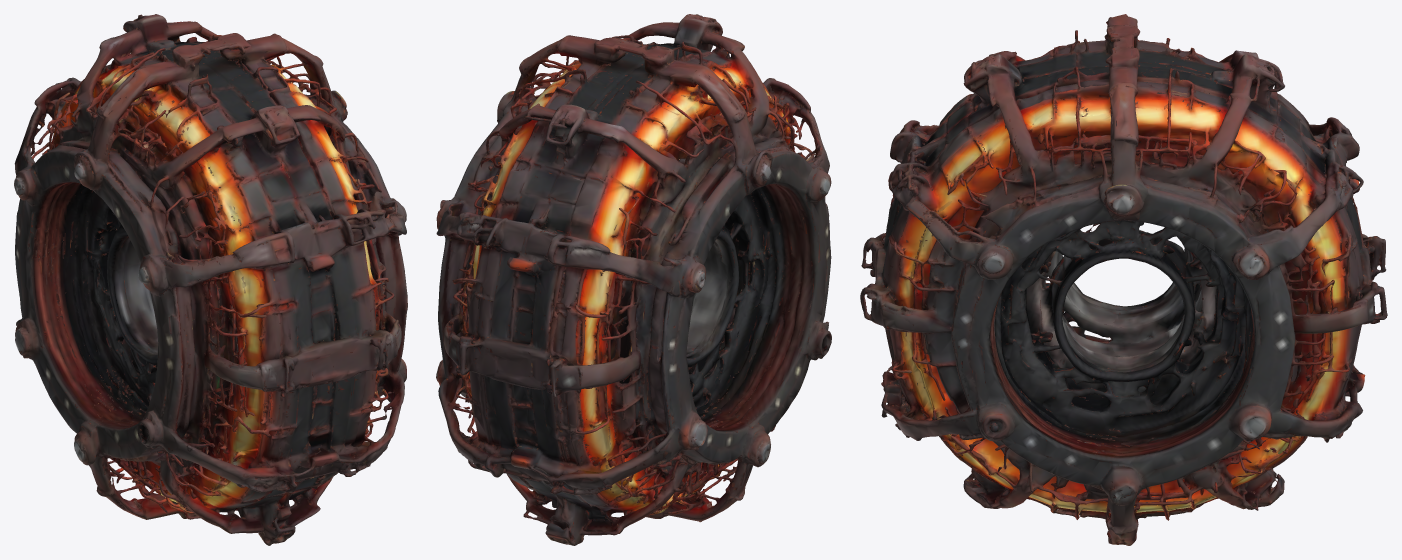
File: arc_reactor.glb
The picture shows the model from 3 angles, left to right: view 1: azimuth 30°, elevation 25°; view 2: azimuth 150°, elevation 25°; view 3: azimuth 270°, elevation 25°; orthographic projection. The views are drawn at different scales.
Bounding box in the file's own units: 1.21 × 2 × 1.99.
1 material, 1 textured.
